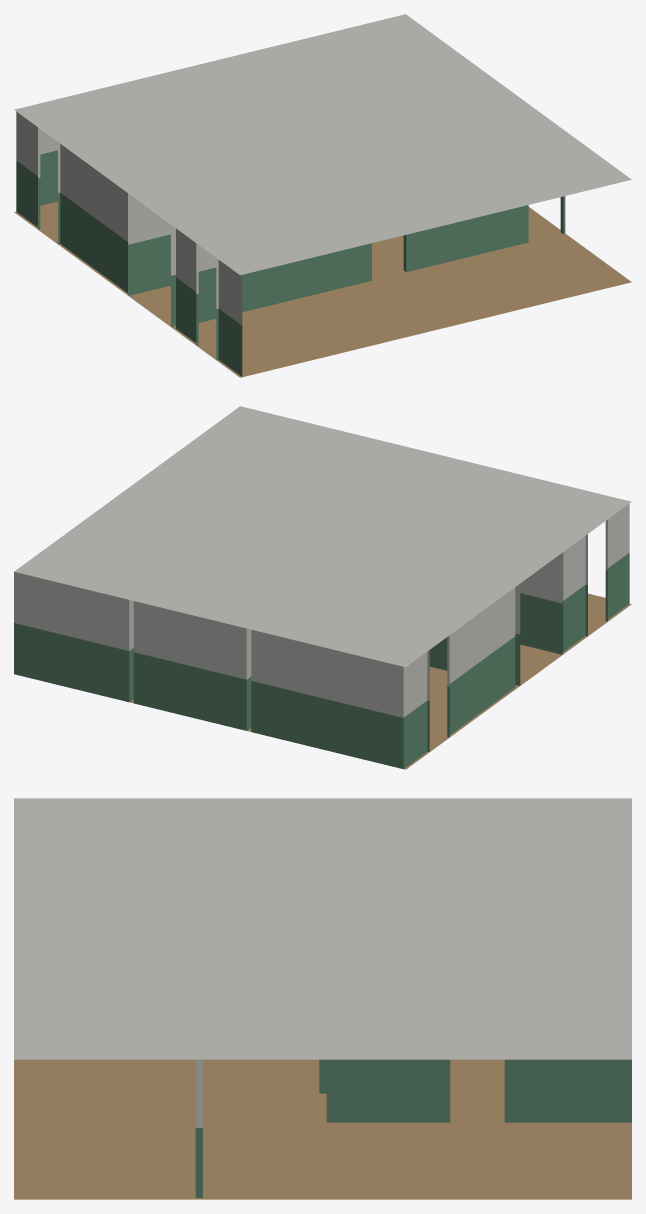
Rendered from chunk_2_0.glb.
3 views of the same model, one above another, from view 1: azimuth 30°, elevation 25°; view 2: azimuth 150°, elevation 25°; view 3: azimuth 270°, elevation 25° (orthographic). The views are drawn at different scales.
Parts seen in each view (by area): view 1: chunk_2_0; view 2: chunk_2_0; view 3: chunk_2_0.
Part boxes in pixels (x1,y1,x2,y2): chunk_2_0: [14, 14, 631, 377]; chunk_2_0: [14, 406, 631, 769]; chunk_2_0: [14, 798, 631, 1199].
Size of the model in its own units: 12 by 3 by 12.
